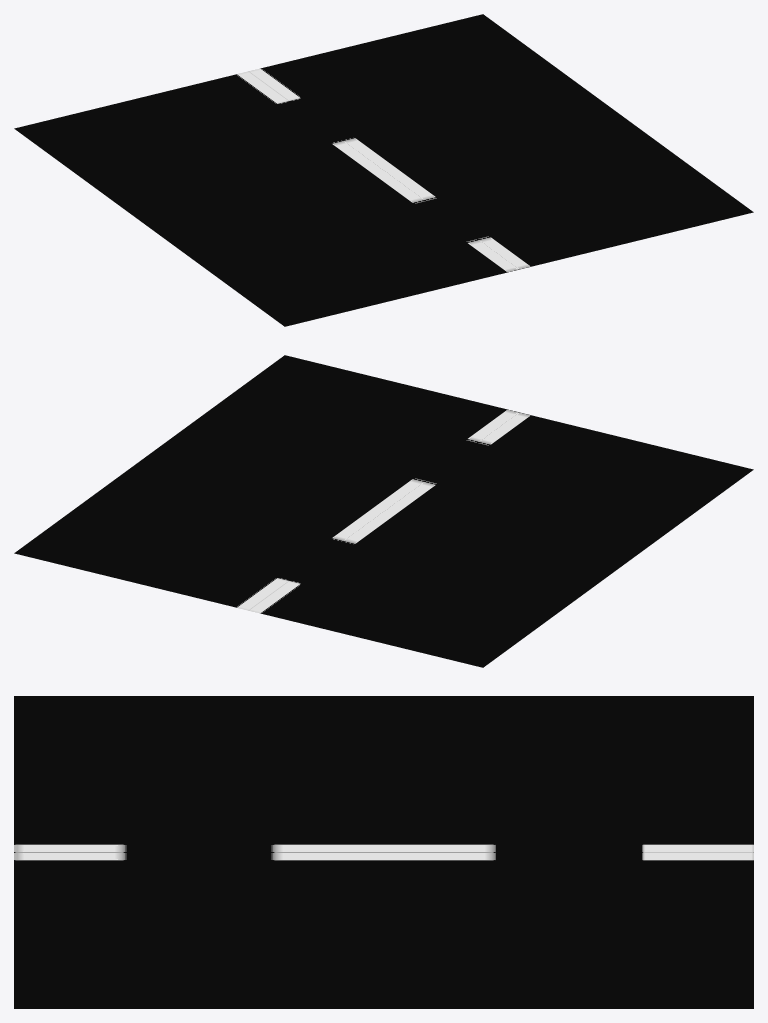
The model's file is roadtest2.fbx.
3 renders of one model, top to bottom at view 1: azimuth 30°, elevation 25°; view 2: azimuth 150°, elevation 25°; view 3: azimuth 270°, elevation 25°, orthographic. The views are drawn at different scales.
Visible parts, largest first — view 1: 평면; view 2: 평면; view 3: 평면.
Boxes of the visible parts, left/top/right/bottom form: 평면: left=14, top=14, right=753, bottom=326; 평면: left=14, top=355, right=753, bottom=667; 평면: left=14, top=696, right=753, bottom=1008.
Bounding box in the file's own units: 200 × 3.26e-05 × 200.
1 material, 1 textured.
